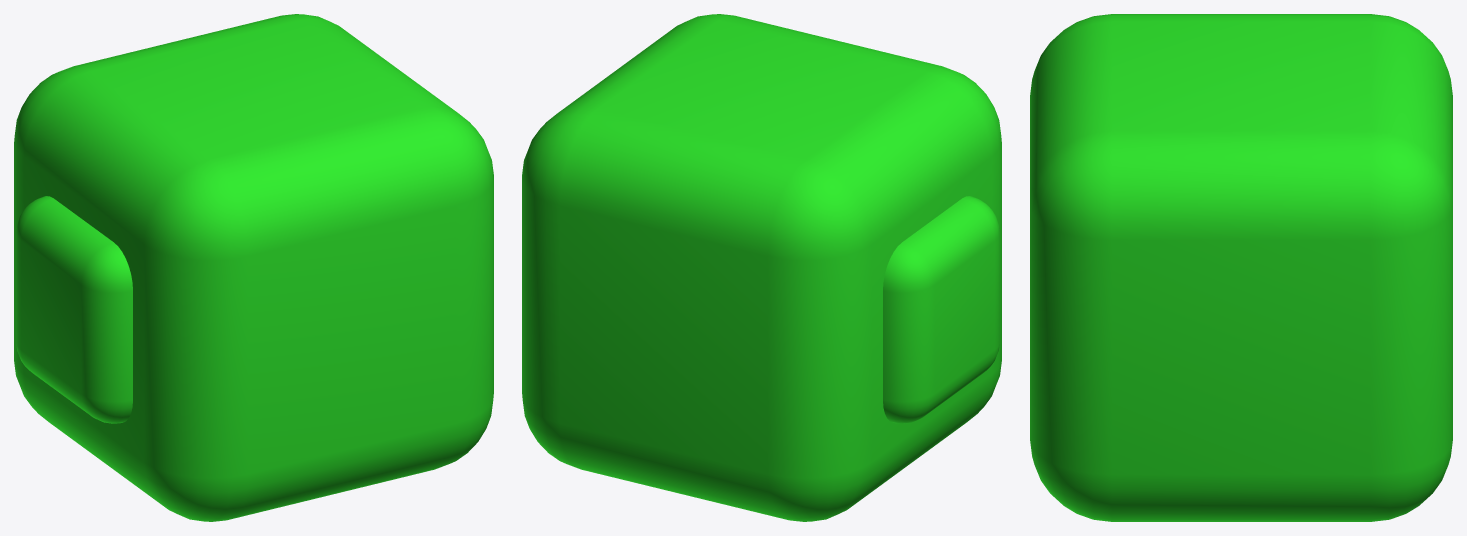
The picture shows the model from 3 angles, left to right: view 1: azimuth 30°, elevation 25°; view 2: azimuth 150°, elevation 25°; view 3: azimuth 270°, elevation 25°; orthographic projection. The views are drawn at different scales.
Parts seen in each view (by area): view 1: Cube.001; view 2: Cube.001; view 3: Cube.001.
Part boxes in pixels (x1=…): Cube.001: x1=14, y1=14, x2=493, y2=521; Cube.001: x1=522, y1=14, x2=1001, y2=521; Cube.001: x1=1030, y1=14, x2=1452, y2=521.
Bounding box in the file's own units: 110 × 100 × 100.
